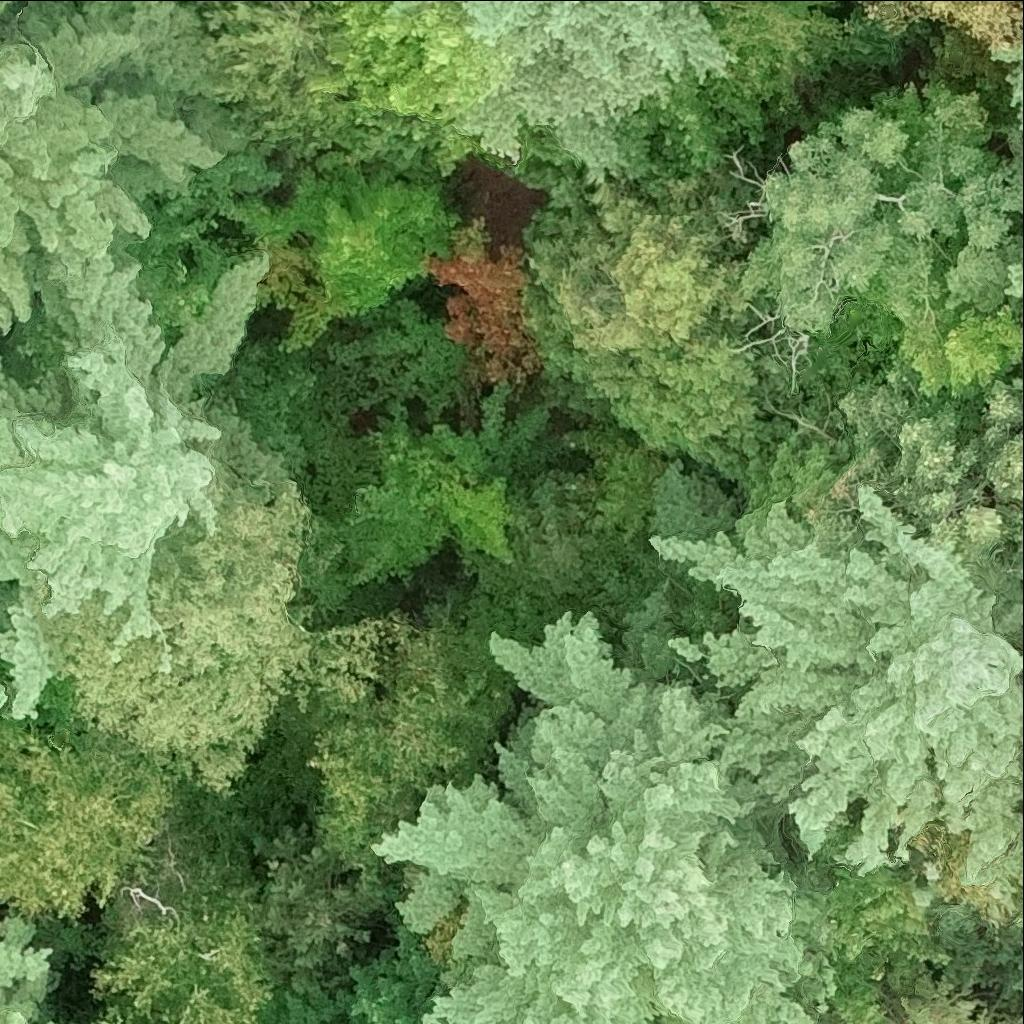crown: (371, 610, 849, 1023), (650, 488, 1023, 874), (0, 252, 294, 713), (37, 480, 404, 794), (725, 82, 1023, 443), (0, 0, 225, 332), (490, 124, 752, 391), (598, 0, 905, 210), (391, 0, 726, 181), (308, 593, 512, 874), (195, 0, 462, 183), (0, 680, 192, 918), (235, 159, 464, 352), (338, 385, 551, 584), (295, 0, 522, 168), (596, 305, 821, 469), (832, 379, 1023, 568), (469, 465, 660, 643), (94, 881, 284, 1001), (427, 221, 550, 397), (940, 742, 1023, 893), (563, 428, 663, 542), (647, 453, 739, 541), (863, 0, 1023, 42), (963, 538, 1023, 648), (0, 912, 52, 1023), (95, 993, 253, 1023), (860, 996, 1014, 1023), (990, 37, 1023, 130), (1002, 261, 1023, 293), (1012, 968, 1023, 1004)
